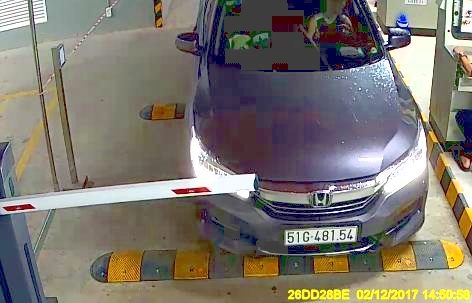plate: (284, 221, 358, 251)
